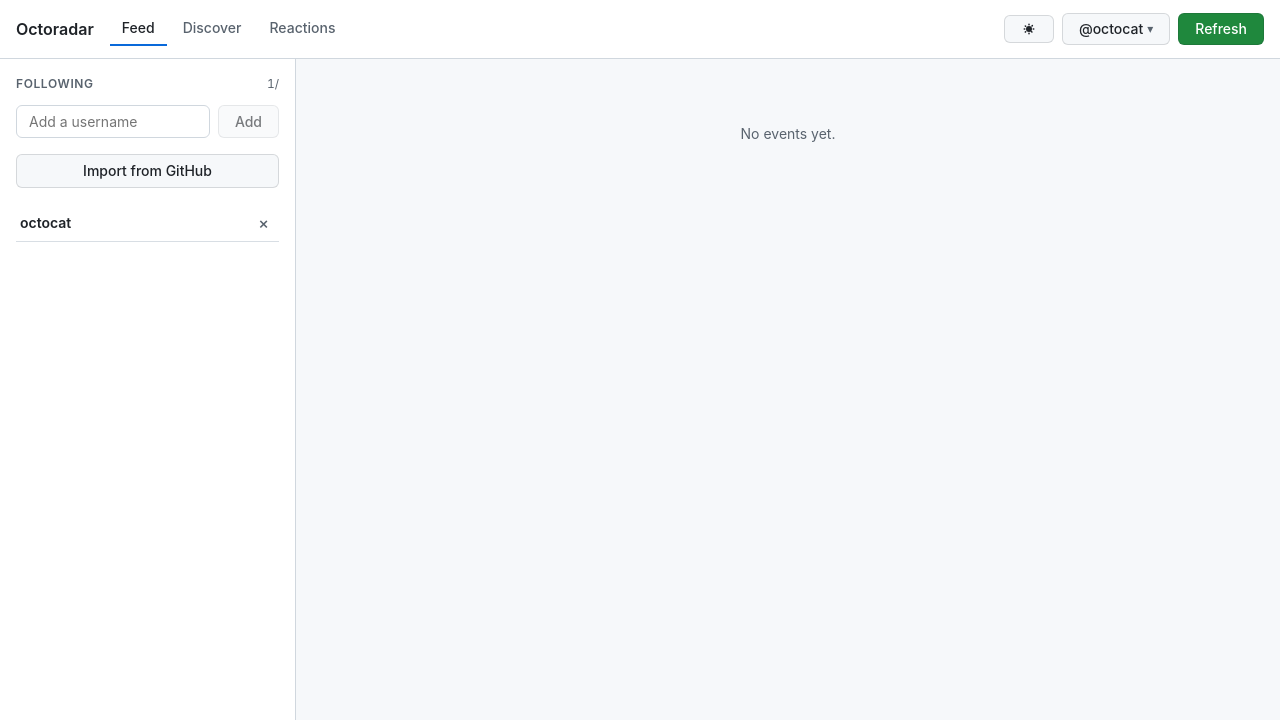
Test case: App reactions tab › polls on load and renders reactions when the tab is opened
Click the button "Reactions" at (302, 29), box 258,12 -> 348,46
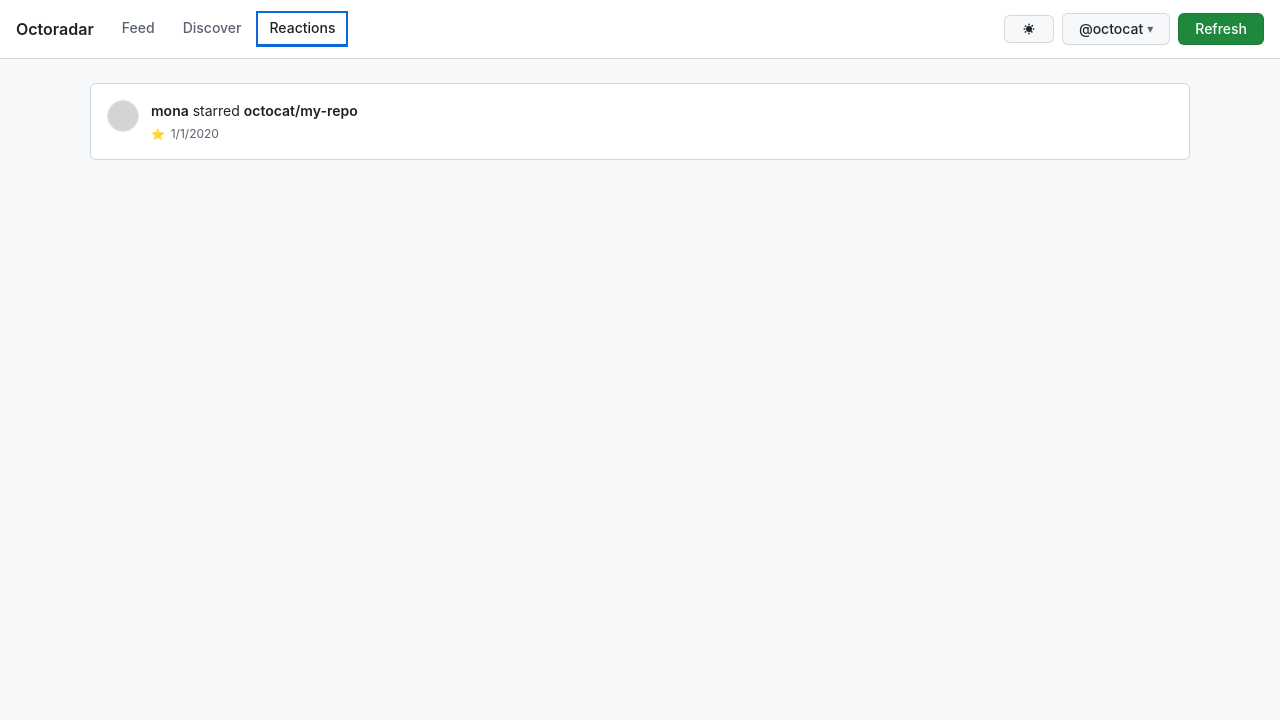
Check: the link "octocat/my-repo" is shown, box 244,102 -> 358,119
